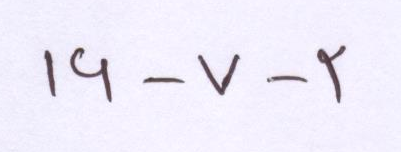character: (70, 47, 112, 104), (198, 54, 240, 94), (317, 45, 345, 105), (44, 50, 57, 98), (266, 76, 313, 87), (142, 77, 188, 87)
